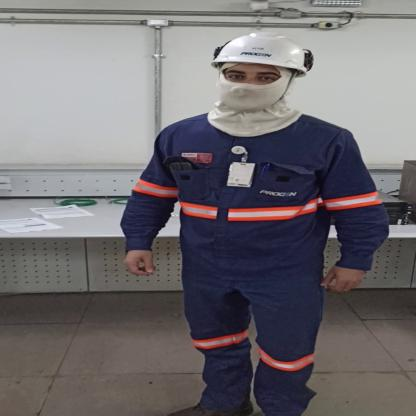Balaclava: (206, 65, 303, 138)
Capacete: (209, 31, 316, 72)
